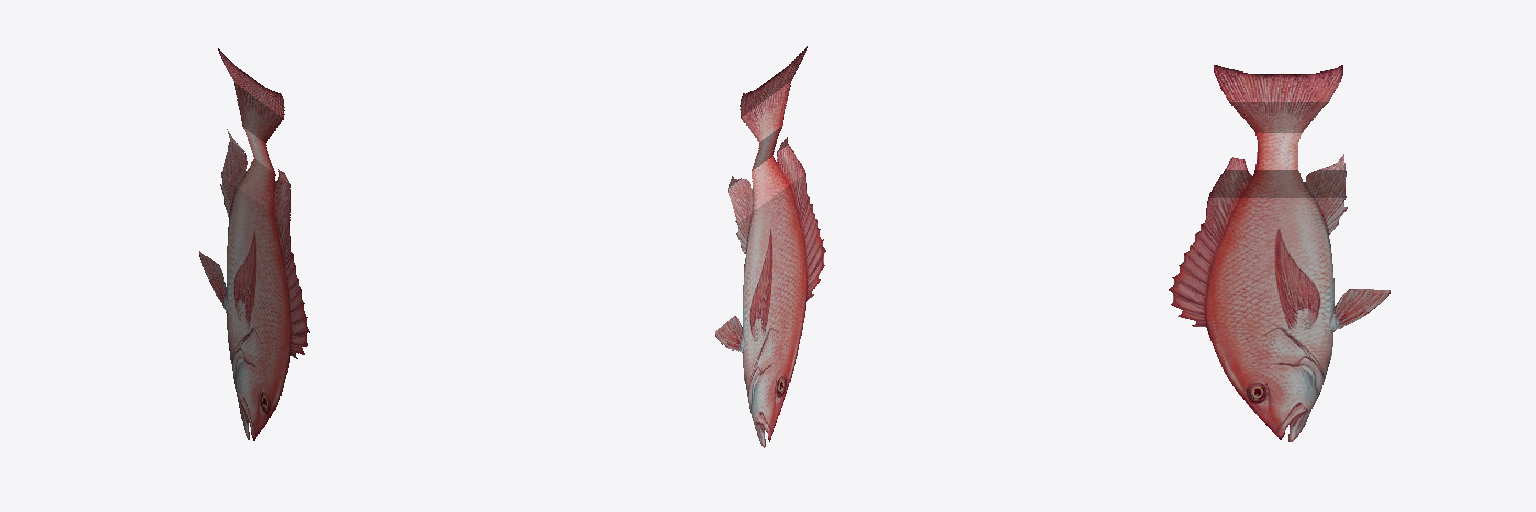
3 views of the same model, side by side, from view 1: azimuth 30°, elevation 25°; view 2: azimuth 150°, elevation 25°; view 3: azimuth 270°, elevation 25° (orthographic).
Bounding box in the file's own units: 0.0782 × 1.98 × 1.06.
Materials: 1 (1 with a texture image).